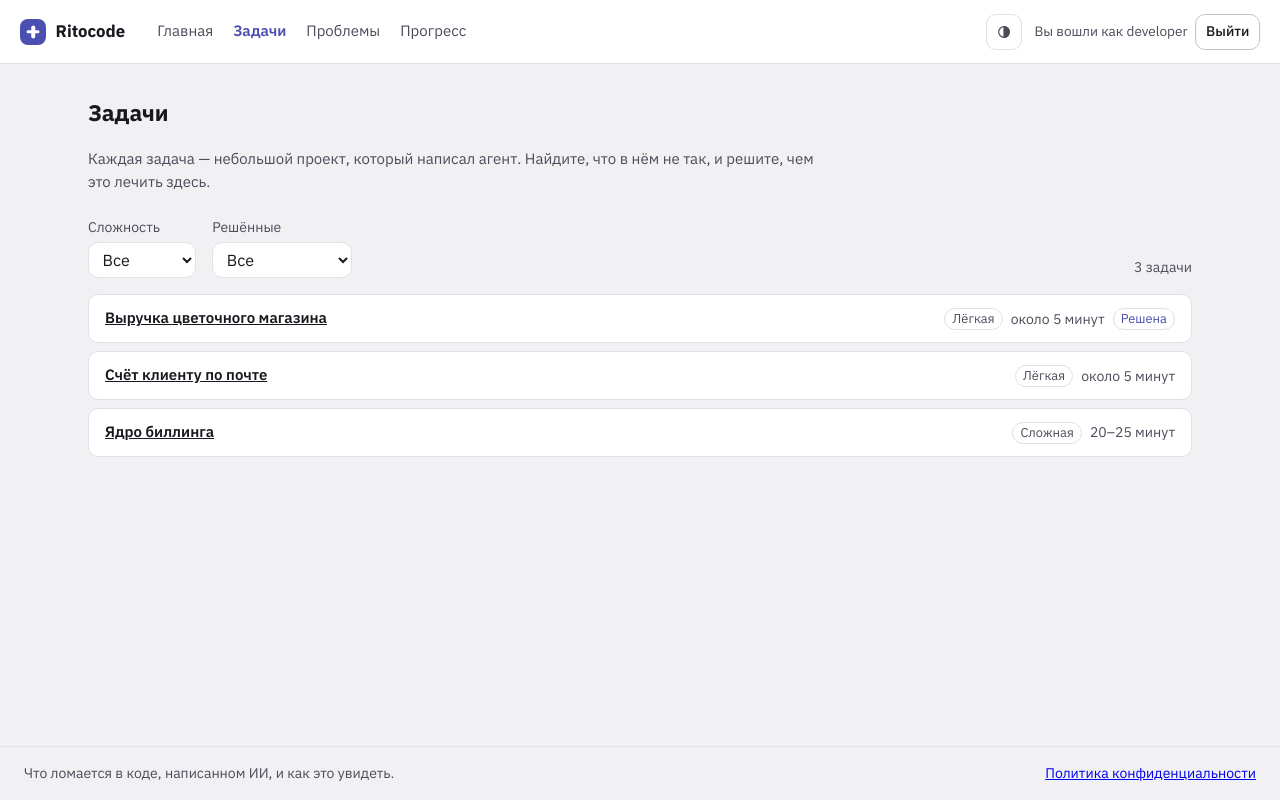
Test case: the task catalogue › marks the tasks a signed-in learner solved, and filters by it
Expected: the text "Решена" is shown once, [1112, 308, 1175, 330]
Select "Нерешённые" in the dropdown labelled "Решённые" at point(282, 260), box [212, 242, 352, 278]
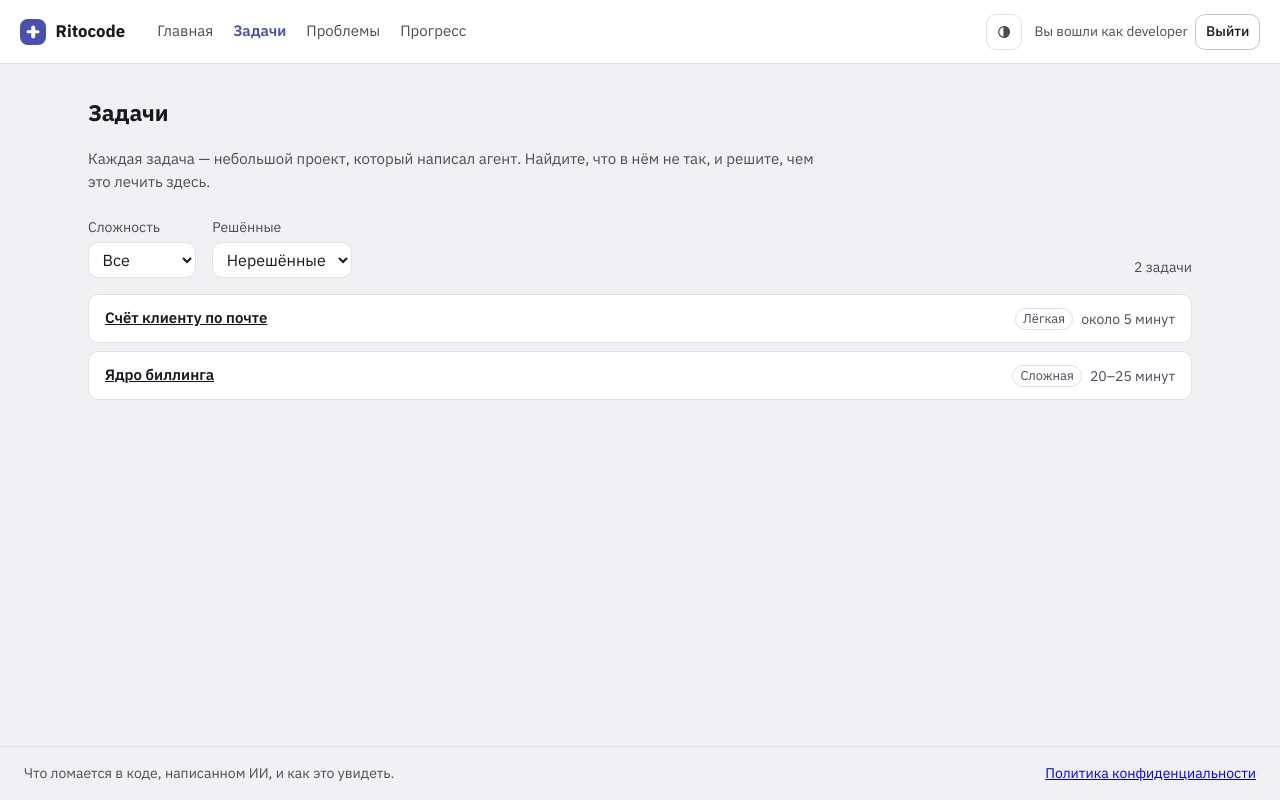
Now the text "2 задачи" is shown, box [1134, 257, 1192, 278]
